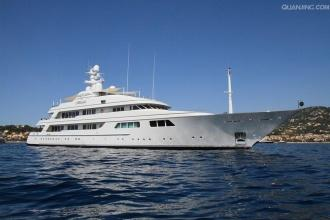yacht: (25, 58, 302, 150)
